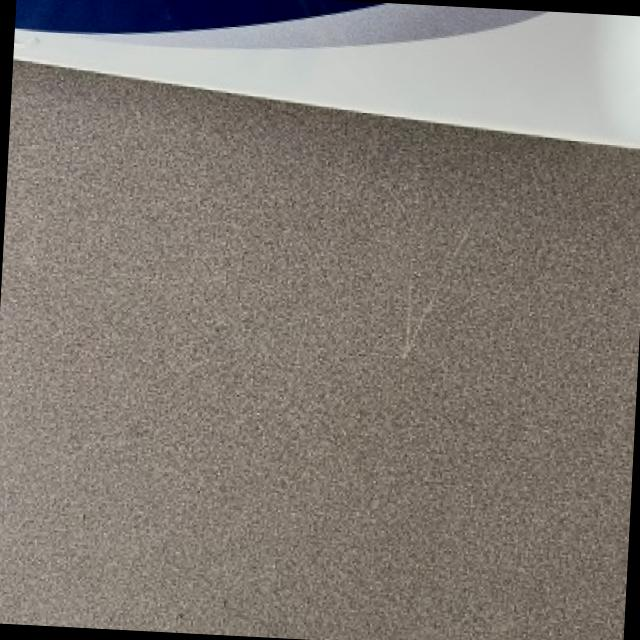healthy: (0, 59, 640, 640), (476, 12, 618, 137)
